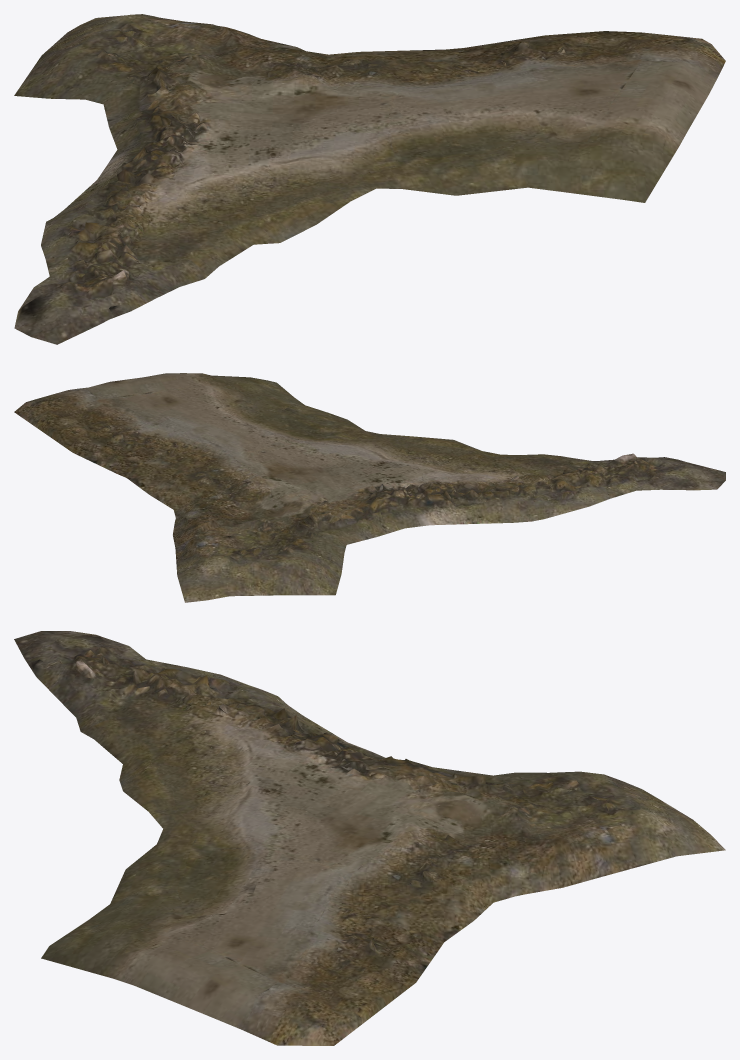
3 views of the same model, one above another, from view 1: azimuth 30°, elevation 25°; view 2: azimuth 150°, elevation 25°; view 3: azimuth 270°, elevation 25° (orthographic). The views are drawn at different scales.
Parts seen in each view (by area): view 1: coast_rocks_01_lod1; view 2: coast_rocks_01_lod1; view 3: coast_rocks_01_lod1.
Part boxes in pixels (bbox=[...]): coast_rocks_01_lod1: bbox=[14, 14, 725, 344]; coast_rocks_01_lod1: bbox=[14, 373, 725, 602]; coast_rocks_01_lod1: bbox=[14, 631, 725, 1045].
Bounding box in the file's own units: 58.31 × 3.15 × 42.51.
1 material, 1 textured.
